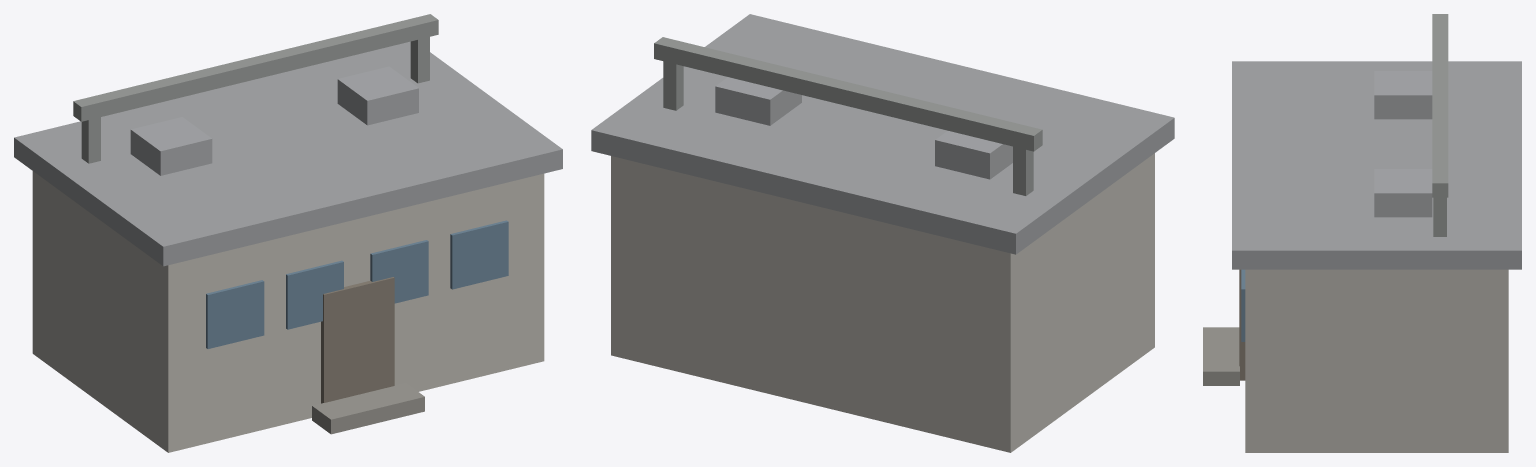
The model's file is plant-kit.glb.
The picture shows the model from 3 angles, left to right: view 1: azimuth 30°, elevation 25°; view 2: azimuth 150°, elevation 25°; view 3: azimuth 270°, elevation 25°; orthographic projection. The views are drawn at different scales.
Visible parts, largest first — view 1: substation; view 2: substation; view 3: substation.
Boxes of the visible parts, box(x1,y1,x2,y2) form: substation: box(14, 14, 562, 452); substation: box(591, 14, 1174, 452); substation: box(1203, 14, 1521, 452).
Bounding box in the file's own units: 8.5 × 5.55 × 6.05.
